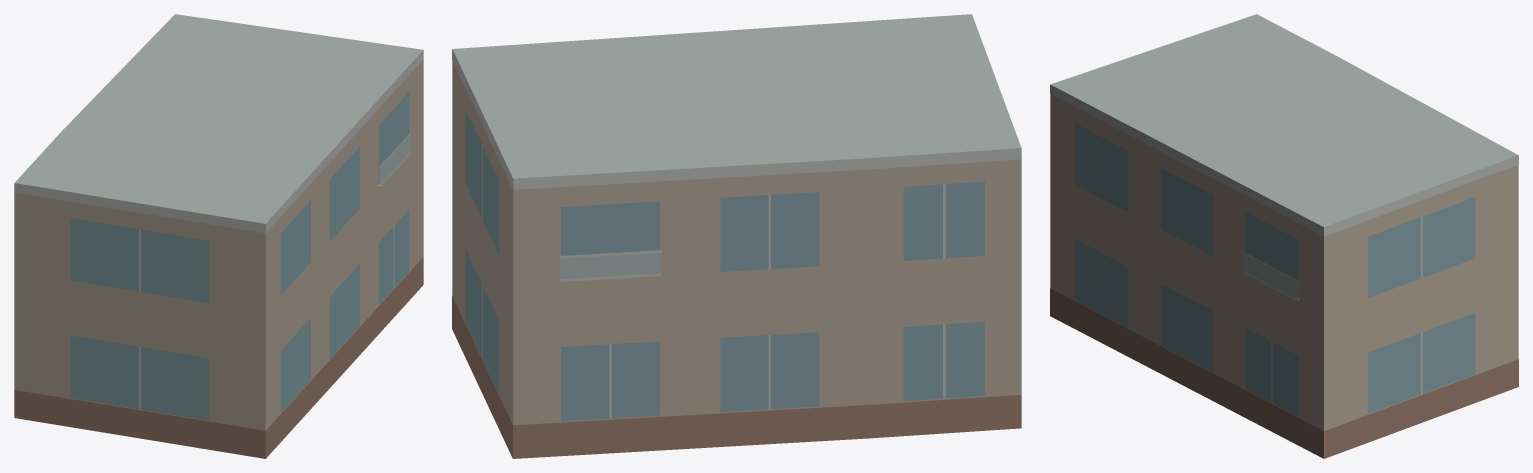
Rendered from survey-upis-32731320.glb.
3 views of the same model, side by side, from view 1: azimuth 30°, elevation 25°; view 2: azimuth 150°, elevation 25°; view 3: azimuth 270°, elevation 25° (orthographic). The views are drawn at different scales.
Parts seen in each view (by area): view 1: survey-upis-32731320.tmp; view 2: survey-upis-32731320.tmp; view 3: survey-upis-32731320.tmp.
Part boxes in pixels (bbox=[...]): survey-upis-32731320.tmp: bbox=[14, 14, 423, 458]; survey-upis-32731320.tmp: bbox=[452, 14, 1021, 458]; survey-upis-32731320.tmp: bbox=[1050, 14, 1518, 458].
Size of the model in its own units: 12.05 by 6.1 by 11.2.
